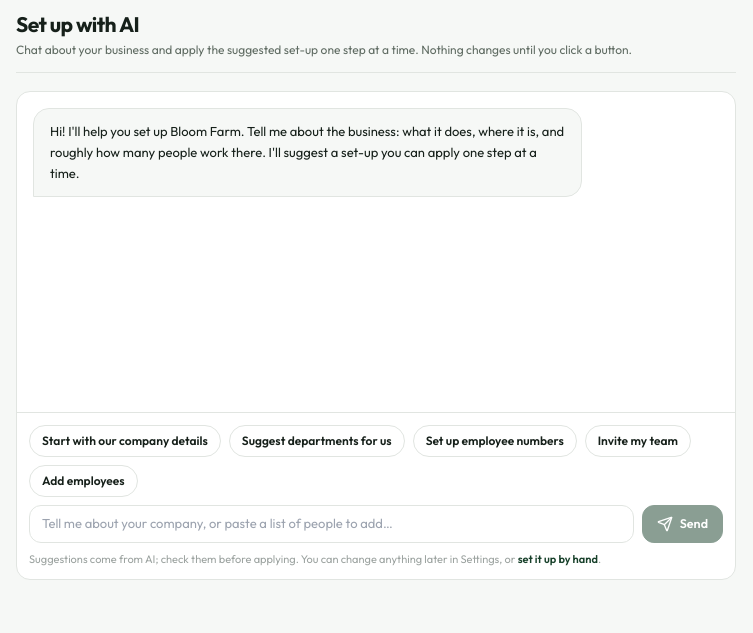
Test: Set up with AI › says why a change was refused and lets the person try again or skip
Step 1. Replace the text in the text box named "Message" with "Yes" → (331, 524), box [29,505,634,542]
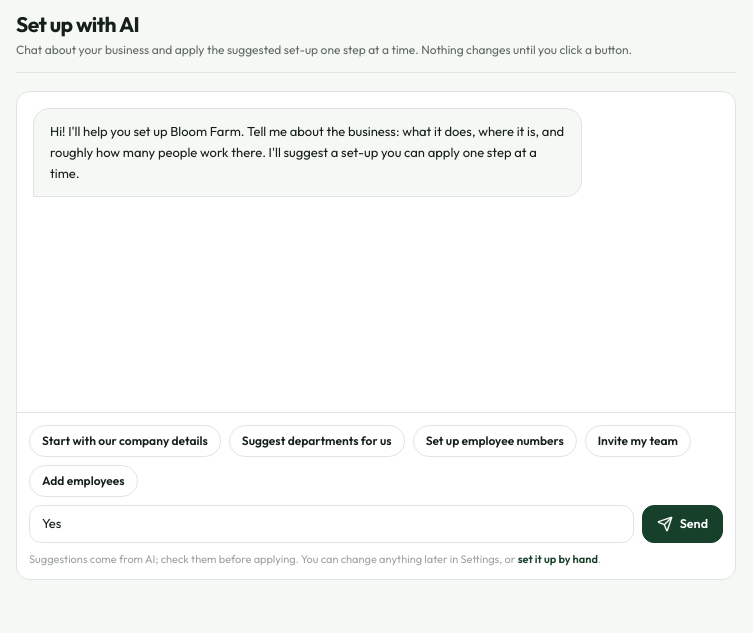
Step 2. Click the button "Send" → (682, 524), box [642,505,723,542]
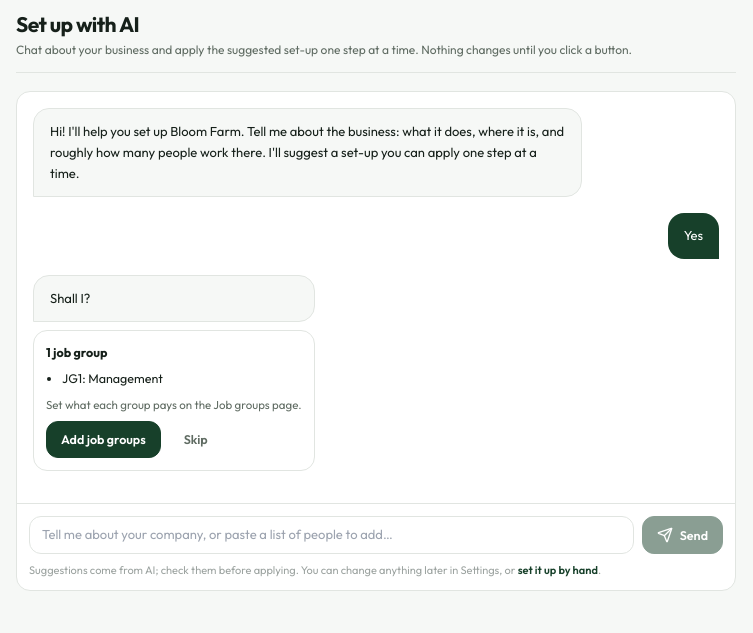
Step 3. Click the button "Add job groups" → (103, 440), box [46,421,161,458]
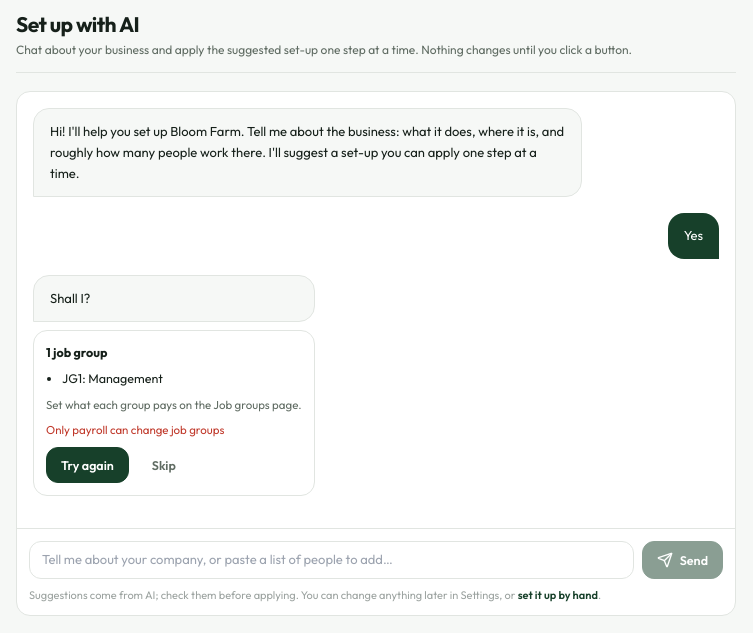
Expected: the text "Only payroll can change job groups" is shown, [46,422,224,437]
Step 4. Click the button "Skip" → (164, 465), box [137,447,191,483]
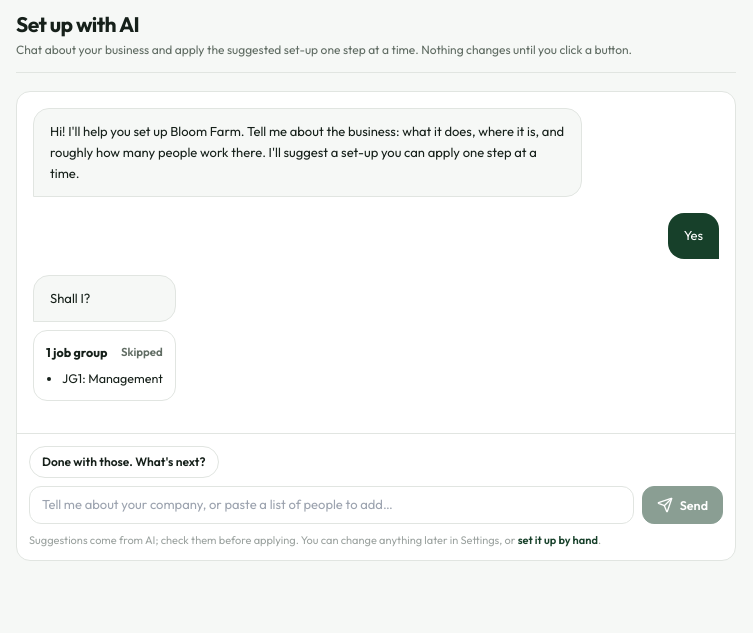
Expected: the text "Skipped" is shown, [121,343,163,361]
Expected: the button "Try again" is gone
